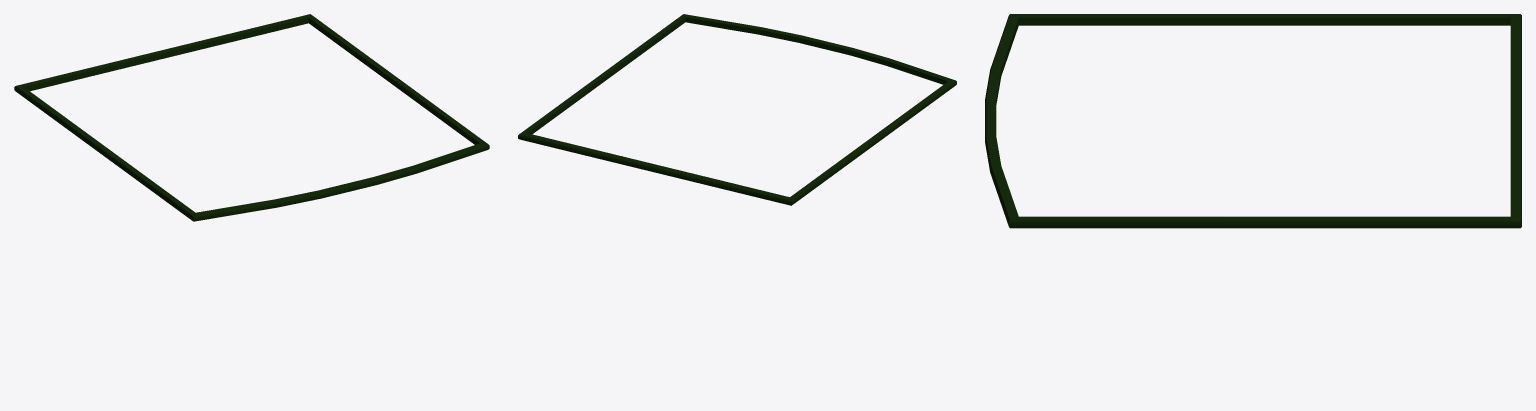
Rendered from Fridge_14_fridge_drawer1_21_1_5.obj.
3 views of the same model, side by side, from view 1: azimuth 30°, elevation 25°; view 2: azimuth 150°, elevation 25°; view 3: azimuth 270°, elevation 25° (orthographic). The views are drawn at different scales.
Bounding box in the file's own units: 0.5001 × 0.4251 × 0.5472.
